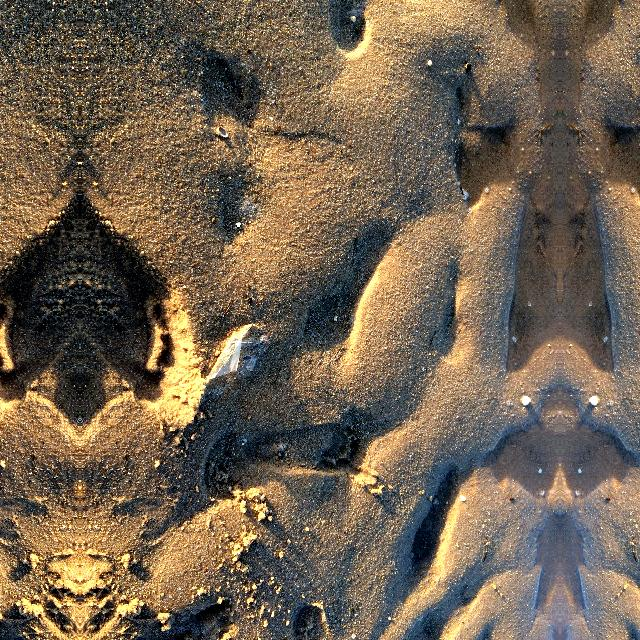Plastic: (202, 316, 276, 394)
